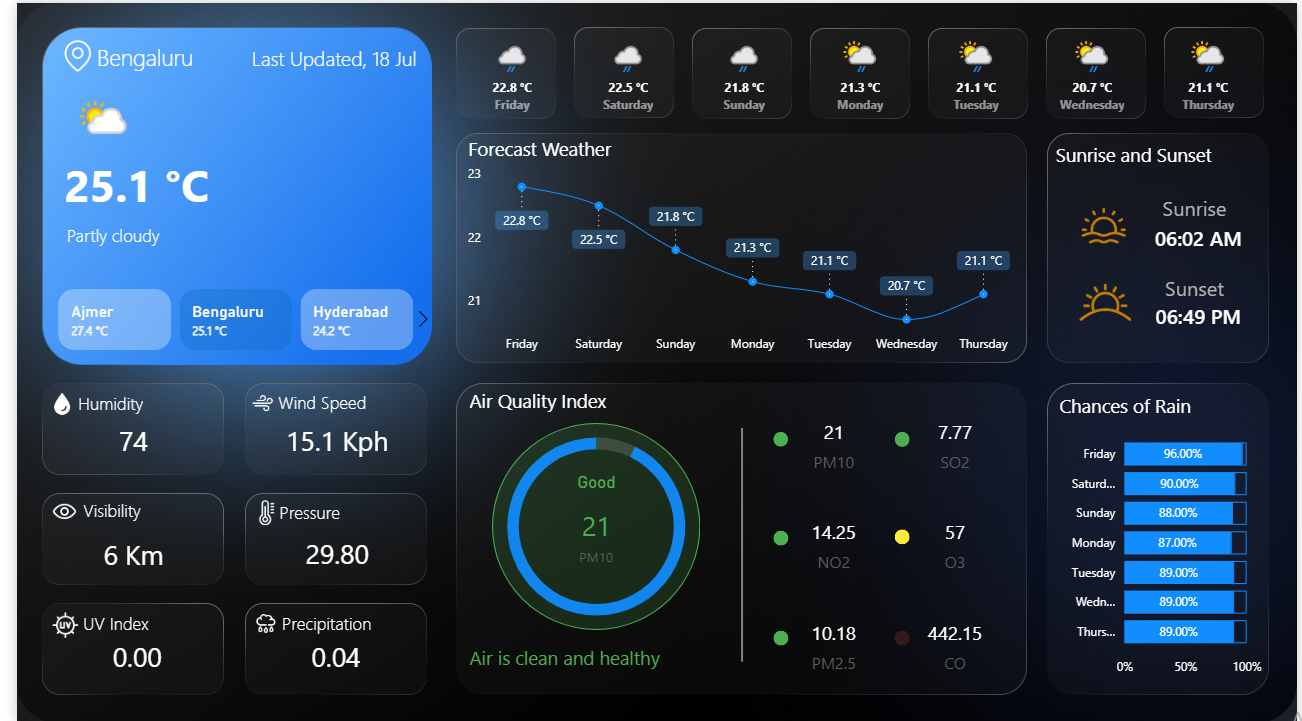

The dashboard page shown, as its layout file describes it:
{"tool":"powerbi","page":{"name":"Weather","canvas":[1280,720],"ordinal":0},"visuals":[{"type":"shape","box":[475.3,420.4,208.3,207],"z":0},{"type":"advancedSlicerVisual","fields":{"Values":["Locations.location.name"]},"box":[16.6,281.1,405,71.6],"z":1000},{"type":"shape","box":[32.9,133.1,174.3,97.4],"z":2000},{"type":"shape","box":[49.4,211.3,336.2,41.2],"z":3000},{"type":"shape","box":[79.6,32.9,119.4,41.2],"z":4000},{"type":"shape","box":[222.3,34.3,177,41.2],"z":5000},{"type":"image","box":[38.4,32.9,43.9,41.2],"z":6000},{"type":"cardVisual","fields":{"Data":["Min(Current.current.condition.icon)"]},"box":[33.2,70.3,106,100.9],"z":7000},{"type":"shape","box":[61.7,381.5,138.6,37],"z":8000},{"type":"shape","box":[260.7,380.1,138.6,37],"z":9000},{"type":"shape","box":[262.1,489.9,138.6,37],"z":10000},{"type":"shape","box":[65.9,488.5,138.6,37],"z":11000},{"type":"shape","box":[65.9,601,138.6,37],"z":12000},{"type":"shape","box":[264.8,601,138.6,37],"z":13000},{"type":"image","box":[28.8,384.2,32.9,34.3],"z":14000},{"type":"image","box":[27.4,489.9,39.8,37],"z":15000},{"type":"image","box":[230.5,384.2,31.6,32.9],"z":16000},{"type":"image","box":[231.9,602.4,32.9,35.7],"z":17000},{"type":"image","box":[231.9,492.6,34.3,34.3],"z":18000},{"type":"image","box":[30.2,603.8,37,37],"z":19000},{"type":"card","fields":{"Values":["Sum(Current.current.humidity)"]},"box":[56.1,410.6,120.8,57.6],"z":20000},{"type":"card","fields":{"Values":["_Measures.Wind_Speed"]},"box":[259.5,409.4,120.8,57.6],"z":21000},{"type":"card","fields":{"Values":["Sum(Current.current.pressure_in)"]},"box":[259.9,522.4,120.6,58.1],"z":22000},{"type":"card","fields":{"Values":["_Measures.Visibility"]},"box":[50.9,523.6,130.8,58.1],"z":23000},{"type":"card","fields":{"Values":["Sum(Current.current.uv)"]},"box":[55.2,626.8,130.8,58.1],"z":24000},{"type":"card","fields":{"Values":["Sum(Current.current.precip_in)"]},"box":[254.3,626.8,130.8,58.1],"z":25000},{"type":"advancedSlicerVisual","fields":{"Values":["Forcast_Day.Day_Name"]},"box":[436,26.2,815.3,95.9],"z":26000},{"type":"lineChart","title":"Forecast Weather","fields":{"Y":["Sum(Forcast_Day.forecast.forecastday.day.avgtemp_c)"],"Category":["Forcast_Day.Day_Name"]},"box":[446.4,132.7,556.2,226.8],"z":27000},{"type":"shape","box":[1039.1,127.9,199.1,48],"z":28000},{"type":"shape","box":[1124.4,180.9,107.5,46.5],"z":29000},{"type":"shape","box":[1124.4,261.5,107.5,46.5],"z":30000},{"type":"shape","box":[1127.3,210.7,107.5,46.5],"z":31000},{"type":"shape","box":[1127.3,289.1,107.5,46.5],"z":32000},{"type":"image","box":[1038.7,260.6,98.9,78.4],"z":33000},{"type":"image","box":[1059.4,194.7,53.8,55.2],"z":34000},{"type":"hundredPercentStackedBarChart","title":"Chances of Rain","fields":{"Y":["Sum(Forcast_Day.forecast.forecastday.day.daily_chance_of_rain)","_Measures.Left_value_Rain"],"Category":["Forcast_Day.Day_Name"]},"box":[1037.5,389.7,212.3,292],"z":35000},{"type":"shape","box":[452.3,374.4,199.3,47.3],"z":36000},{"type":"card","fields":{"Values":["Sum(Current.current.air_quality.so2)"]},"box":[877.8,410.1,121.4,62.6],"z":37000},{"type":"card","fields":{"Values":["Sum(Current.current.air_quality.no2)"]},"box":[756.4,509.8,121.4,62.6],"z":38000},{"type":"card","fields":{"Values":["Sum(Current.current.air_quality.pm10)"]},"box":[756.4,410.1,121.4,62.6],"z":39000},{"type":"card","fields":{"Values":["Sum(Current.current.air_quality.o3)"]},"box":[877.8,509.8,121.4,62.6],"z":40000},{"type":"card","fields":{"Values":["Sum(Current.current.air_quality.co)"]},"box":[877.8,610.7,121.4,62.6],"z":41000},{"type":"card","fields":{"Values":["Sum(Current.current.air_quality.pm2_5)"]},"box":[756.4,610.7,121.4,62.6],"z":42000},{"type":"shape","box":[756.4,429.3,15,15],"z":43000},{"type":"shape","box":[756.4,527.7,15.3,15.3],"z":44000},{"type":"shape","box":[756.4,627.4,15.3,15.3],"z":45000},{"type":"shape","box":[877.8,429.3,15.3,15.3],"z":46000},{"type":"shape","box":[877.8,526.4,15.3,15.3],"z":47000},{"type":"shape","box":[877.8,627.4,15.3,15.3],"z":48000},{"type":"shape","box":[693.8,425.5,62.6,233.8],"z":49000},{"type":"card","fields":{"Values":["Sum(Current.current.air_quality.pm10)"]},"box":[518.7,468.9,121.4,107.3],"z":50000},{"type":"donutChart","fields":{"Y":["Sum(Current.current.air_quality.pm10)","_Measures.Left_Value_PM10"]},"box":[458.7,407.6,241.5,232.5],"z":51000},{"type":"shape","box":[452.3,622.2,263.2,62.6],"z":52000}]}

Visuals, with their boxes in screenshot pixels (x1, y1, x2, y2), scaled from the page's 1280x720 canvas onto the 1302x721 screenshot:
shape: BBox(483, 421, 695, 628)
advancedSlicerVisual - Locations.location.name: BBox(17, 281, 429, 353)
shape: BBox(33, 133, 211, 231)
shape: BBox(50, 212, 392, 253)
shape: BBox(81, 33, 202, 74)
shape: BBox(226, 34, 406, 76)
image: BBox(39, 33, 84, 74)
cardVisual - Min(Current.current.condition.icon): BBox(34, 70, 142, 171)
shape: BBox(63, 382, 204, 419)
shape: BBox(265, 381, 406, 418)
shape: BBox(267, 491, 408, 528)
shape: BBox(67, 489, 208, 526)
shape: BBox(67, 602, 208, 639)
shape: BBox(269, 602, 410, 639)
image: BBox(29, 385, 63, 419)
image: BBox(28, 491, 68, 528)
image: BBox(234, 385, 267, 418)
image: BBox(236, 603, 269, 639)
image: BBox(236, 493, 271, 528)
image: BBox(31, 605, 68, 642)
card - Sum(Current.current.humidity): BBox(57, 411, 180, 469)
card - _Measures.Wind_Speed: BBox(264, 410, 387, 468)
card - Sum(Current.current.pressure_in): BBox(264, 523, 387, 581)
card - _Measures.Visibility: BBox(52, 524, 185, 583)
card - Sum(Current.current.uv): BBox(56, 628, 189, 686)
card - Sum(Current.current.precip_in): BBox(259, 628, 392, 686)
advancedSlicerVisual - Forcast_Day.Day_Name: BBox(443, 26, 1273, 122)
"Forecast Weather" lineChart: BBox(454, 133, 1020, 360)
shape: BBox(1057, 128, 1259, 176)
shape: BBox(1144, 181, 1253, 228)
shape: BBox(1144, 262, 1253, 308)
shape: BBox(1147, 211, 1256, 258)
shape: BBox(1147, 290, 1256, 336)
image: BBox(1057, 261, 1157, 339)
image: BBox(1078, 195, 1132, 250)
"Chances of Rain" hundredPercentStackedBarChart: BBox(1055, 390, 1271, 683)
shape: BBox(460, 375, 663, 422)
card - Sum(Current.current.air_quality.so2): BBox(893, 411, 1016, 473)
card - Sum(Current.current.air_quality.no2): BBox(769, 511, 893, 573)
card - Sum(Current.current.air_quality.pm10): BBox(769, 411, 893, 473)
card - Sum(Current.current.air_quality.o3): BBox(893, 511, 1016, 573)
card - Sum(Current.current.air_quality.co): BBox(893, 612, 1016, 674)
card - Sum(Current.current.air_quality.pm2_5): BBox(769, 612, 893, 674)
shape: BBox(769, 430, 785, 445)
shape: BBox(769, 528, 785, 544)
shape: BBox(769, 628, 785, 644)
shape: BBox(893, 430, 908, 445)
shape: BBox(893, 527, 908, 542)
shape: BBox(893, 628, 908, 644)
shape: BBox(706, 426, 769, 660)
card - Sum(Current.current.air_quality.pm10): BBox(528, 470, 651, 577)
donutChart - Sum(Current.current.air_quality.pm10) x _Measures.Left_Value_PM10: BBox(467, 408, 712, 641)
shape: BBox(460, 623, 728, 686)
